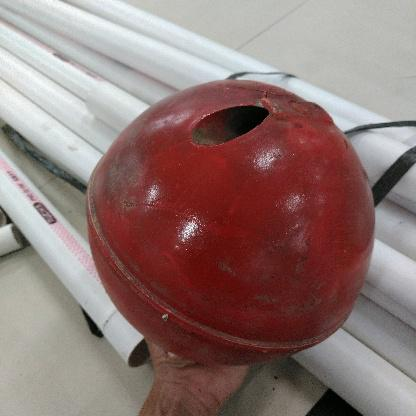red_buoy: (85, 73, 377, 370)
